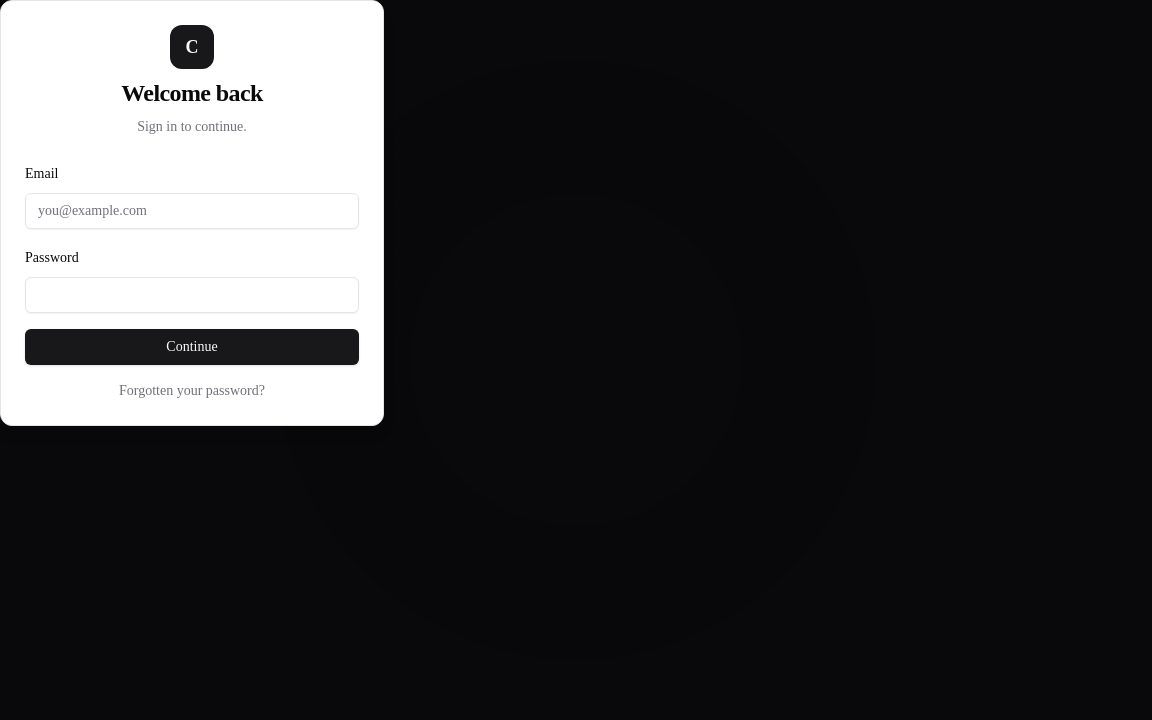
Test case: sign-in — step 1, the credentials › moves to the code step and says a code was sent
Type "agent@example.test" into the field labelled "Email" at (192, 211), box [25, 193, 359, 229]
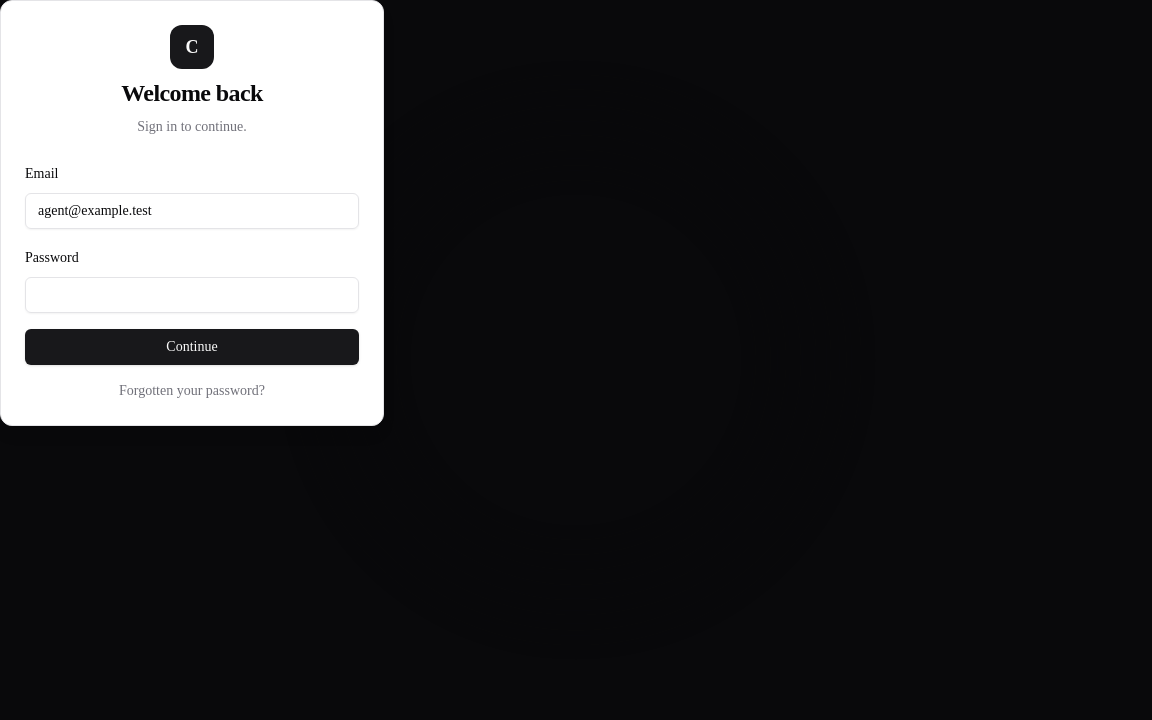
Type "pw" into the password field labelled "Password" at (192, 295), box [25, 277, 359, 313]
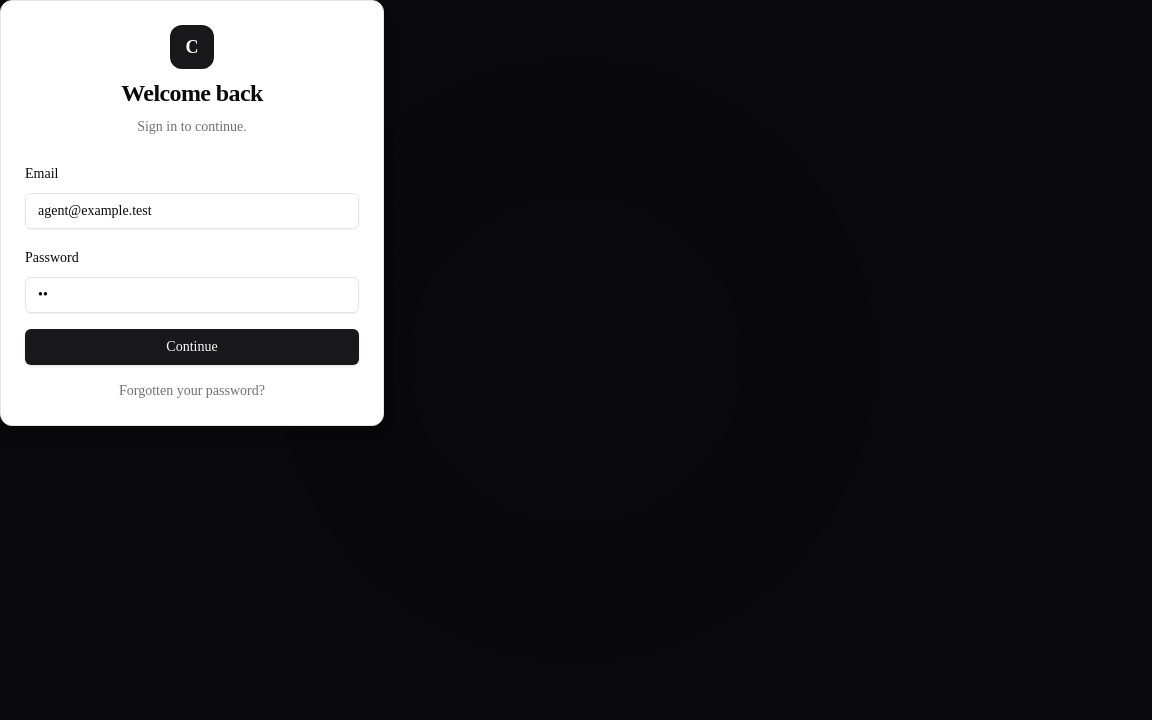
Click the button "Continue" at (192, 347), box [25, 329, 359, 365]
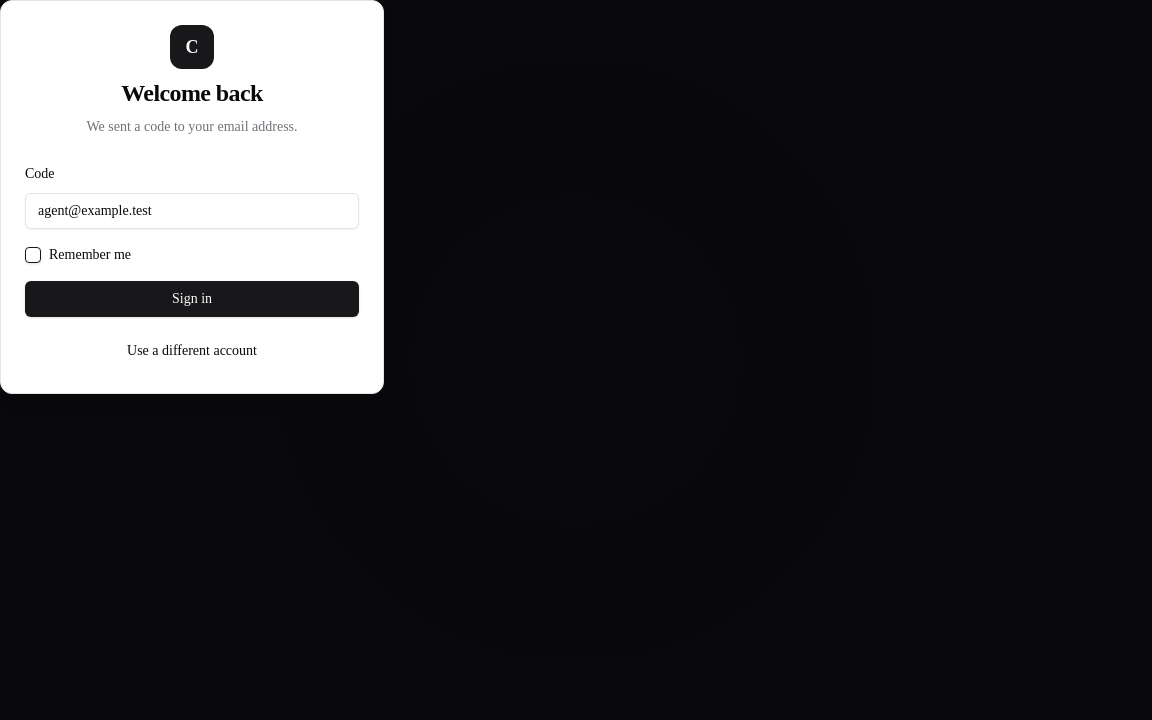
Now the text "We sent a code to your email address." is shown, box [86, 119, 298, 134]
Now the label labelled "Password" is gone
